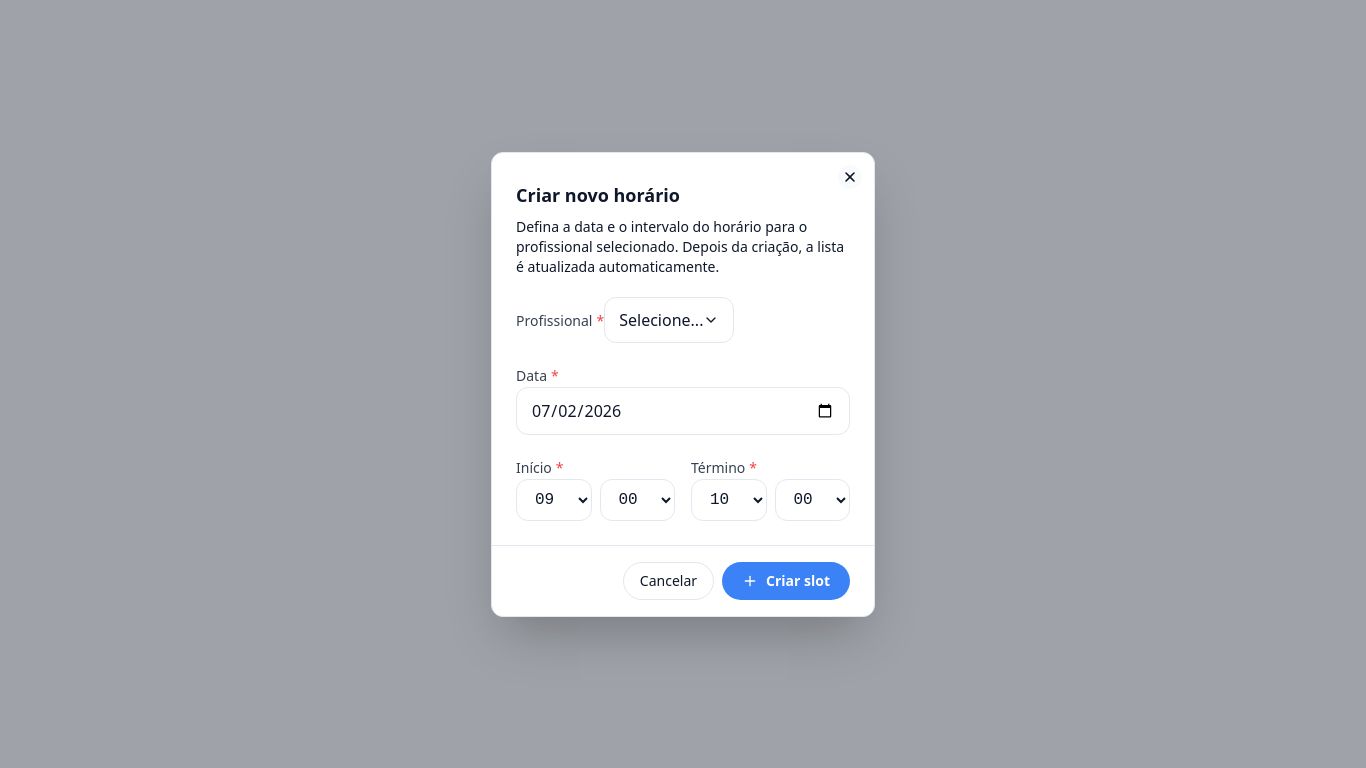
it: SlotFormModal › não submete e mostra erro de validação quando profissional não é selecionado
The image size is (1366, 768).
Click the button "Criar slot". click: (786, 580)
box: [722,562,850,600]
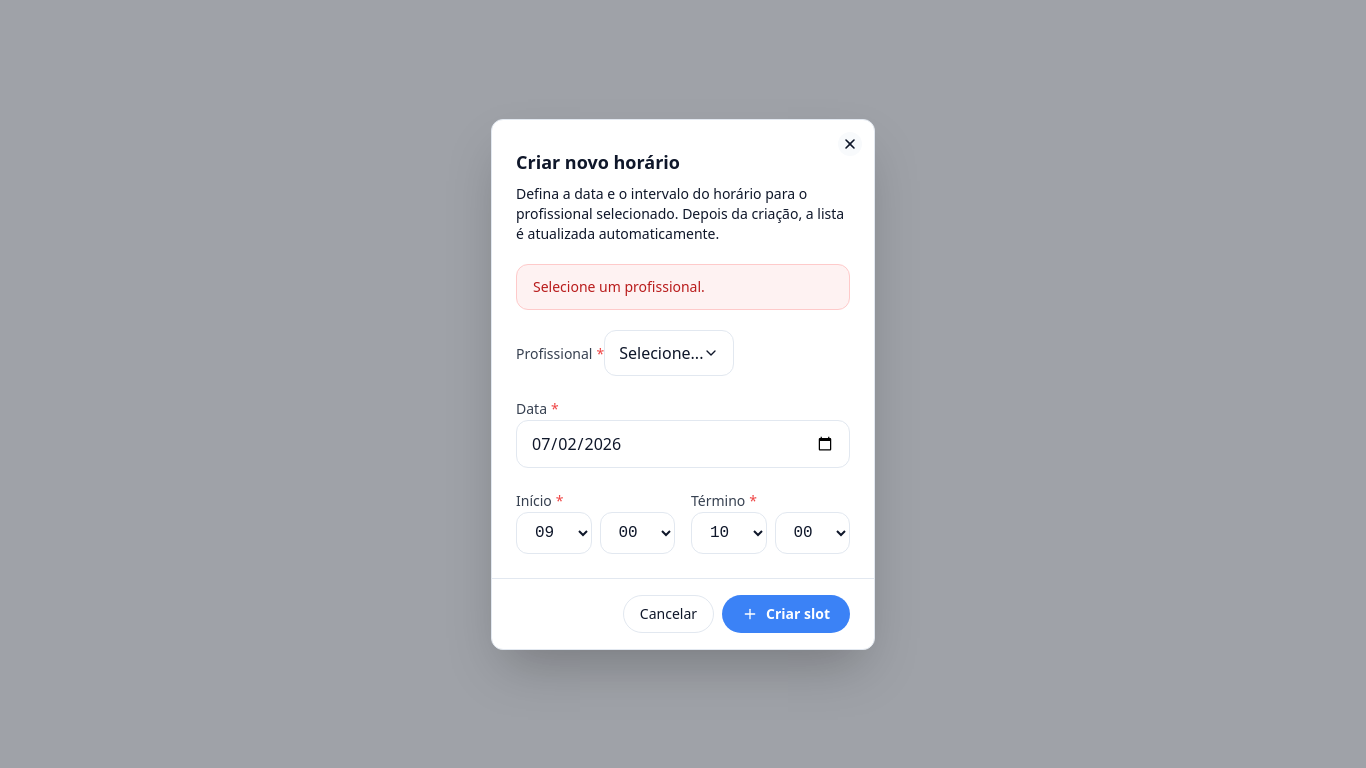
Expected: the text "Selecione um profissional." is shown, [516,264,850,310]
